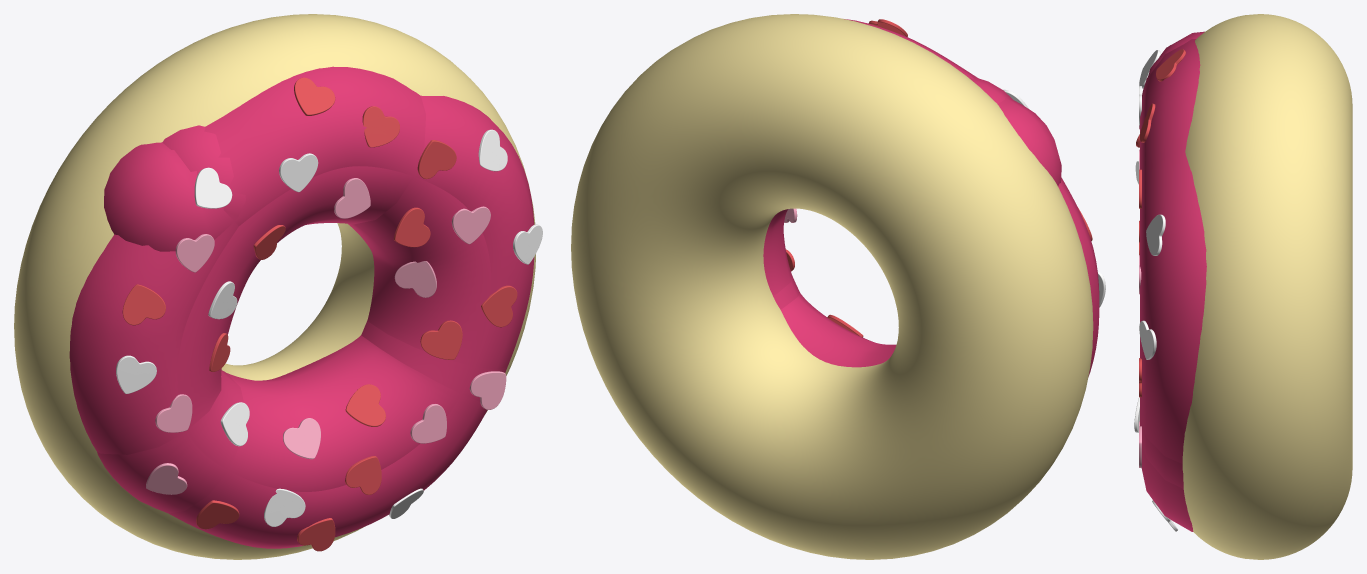
File: strawberry-donut-with-hearts.glb
3 views of the same model, side by side, from view 1: azimuth 30°, elevation 25°; view 2: azimuth 150°, elevation 25°; view 3: azimuth 270°, elevation 25° (orthographic). The views are drawn at different scales.
Visible parts, largest first — view 1: mesh_id51, mesh_id32, node_id204, node_id228, node_id281, node_id128, node_id289, node_id167, node_id66, node_id190, node_id308, node_id258 (+18 smaller); view 2: mesh_id32, mesh_id51; view 3: mesh_id32, mesh_id51, node_id149, node_id232, node_id308, node_id66, node_id128.
Part boxes in pixels (bbox=[...]): mesh_id51: bbox=[69, 66, 534, 548]; mesh_id32: bbox=[14, 14, 535, 559]; node_id204: bbox=[122, 284, 165, 325]; node_id228: bbox=[420, 320, 462, 359]; node_id281: bbox=[345, 384, 385, 426]; node_id128: bbox=[194, 167, 232, 208]; node_id289: bbox=[283, 418, 320, 459]; node_id167: bbox=[394, 261, 436, 297]; node_id66: bbox=[362, 106, 399, 147]; node_id190: bbox=[116, 355, 156, 393]; node_id308: bbox=[294, 77, 335, 115]; node_id258: bbox=[264, 488, 305, 526]; mesh_id32: bbox=[571, 14, 1093, 559]; mesh_id51: bbox=[763, 19, 1099, 376]; mesh_id32: bbox=[1182, 14, 1352, 559]; mesh_id51: bbox=[1140, 31, 1206, 531]; node_id149: bbox=[1146, 214, 1165, 255]; node_id232: bbox=[1139, 320, 1156, 359]; node_id308: bbox=[1156, 49, 1185, 81]; node_id66: bbox=[1140, 103, 1155, 142]; node_id128: bbox=[1139, 50, 1160, 88].
Bounding box in the file's own units: 0.6207 × 0.6197 × 0.2476.
Materials: 5 (5 with a texture image).
